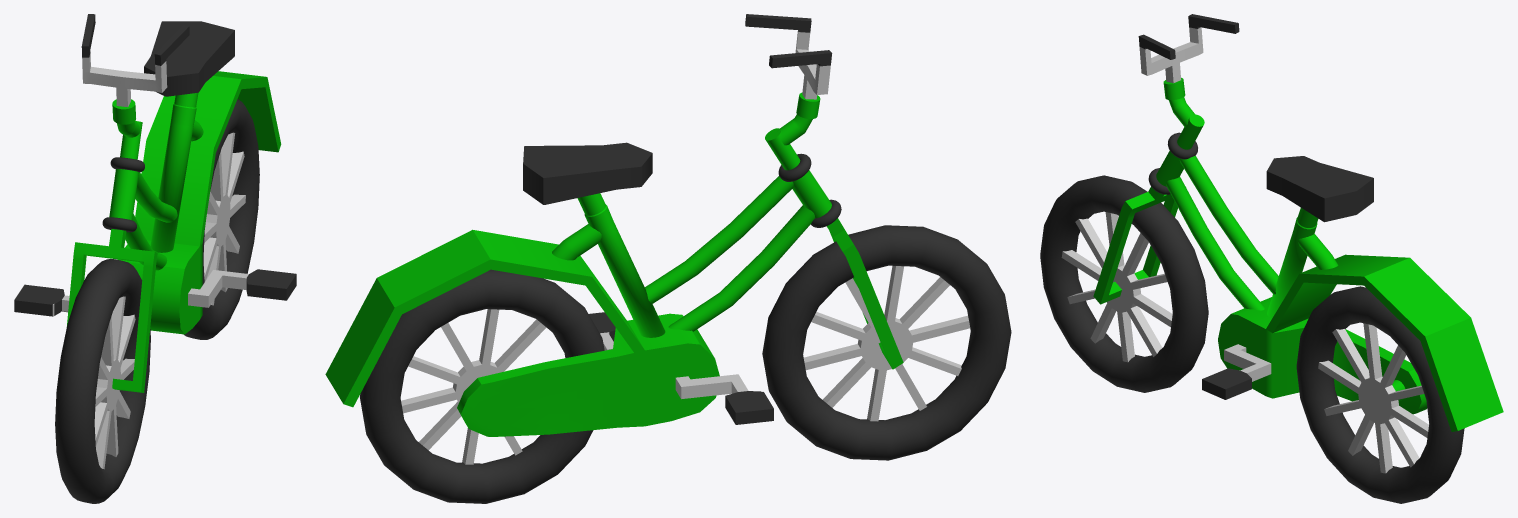
File: cycle.obj
3 renders of one model, left to right at view 1: azimuth 30°, elevation 25°; view 2: azimuth 150°, elevation 25°; view 3: azimuth 270°, elevation 25°, orthographic. The views are drawn at different scales.
Parts seen in each view (by area): view 1: polySurface62; view 2: polySurface62; view 3: polySurface62.
Boxes of the visible parts, left/top/right/bottom form: polySurface62: left=14, top=14, right=296, bottom=503; polySurface62: left=325, top=14, right=1011, bottom=503; polySurface62: left=1040, top=14, right=1503, bottom=503.
Size of the model in its own units: 43.89 by 40.01 by 43.66.
